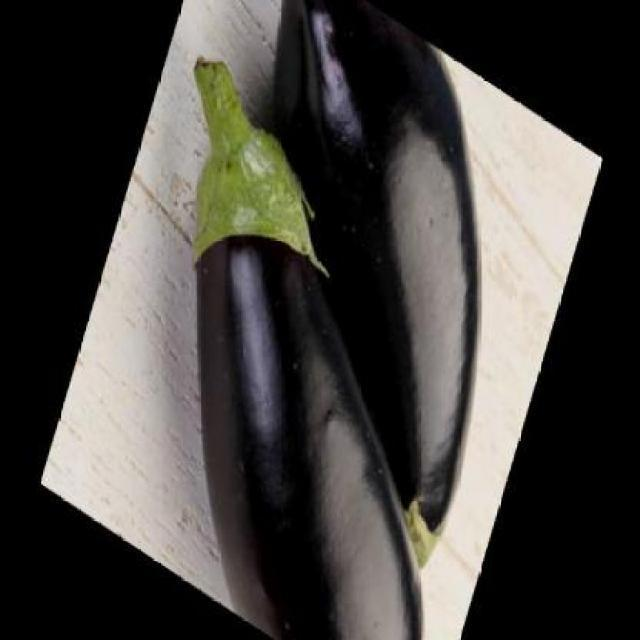eggplant: (181, 0, 489, 575), (185, 47, 432, 640)
